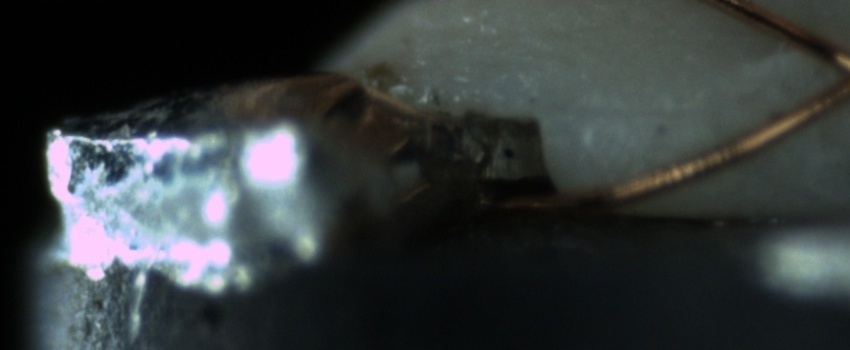CL: (809, 36, 850, 116)
DL: (576, 85, 711, 139)
